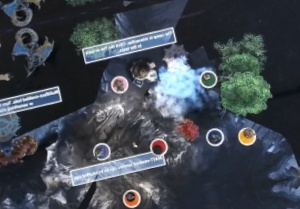blue: (202, 123, 229, 149)
green: (194, 67, 222, 92)
orange: (117, 183, 146, 209)
pink: (107, 69, 135, 97)
red: (146, 134, 169, 159)
violet: (90, 138, 114, 163)
yellow: (235, 122, 258, 147)
